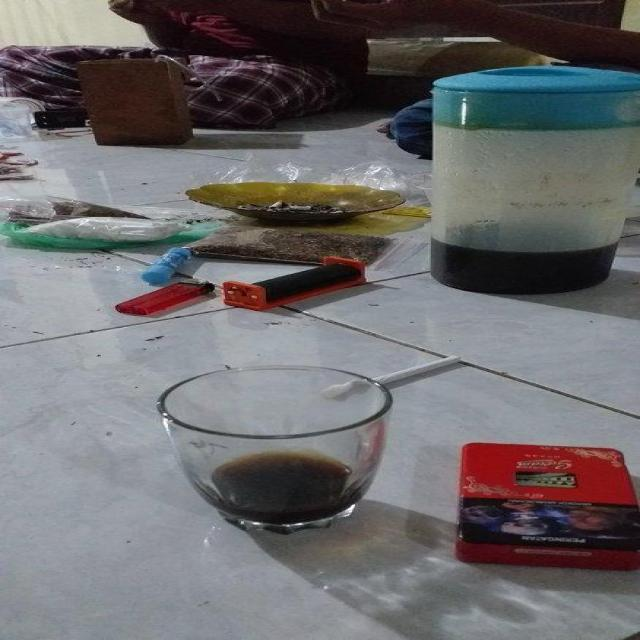rokok: (368, 344, 472, 396)
